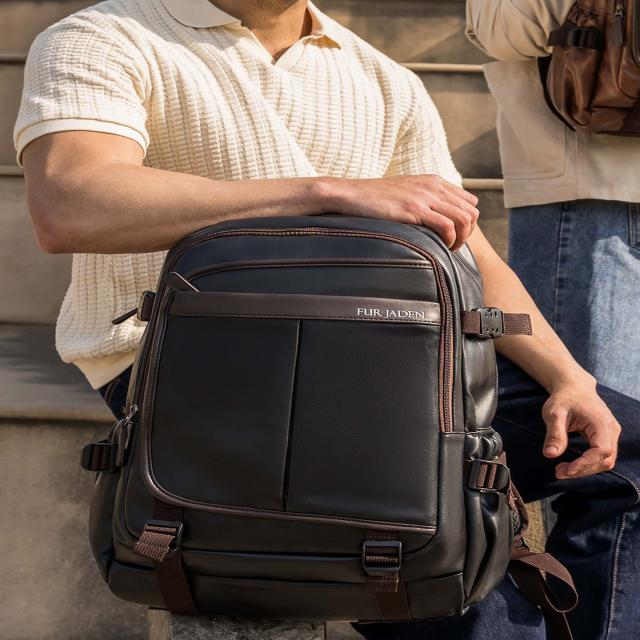backpack: (81, 215, 539, 625)
